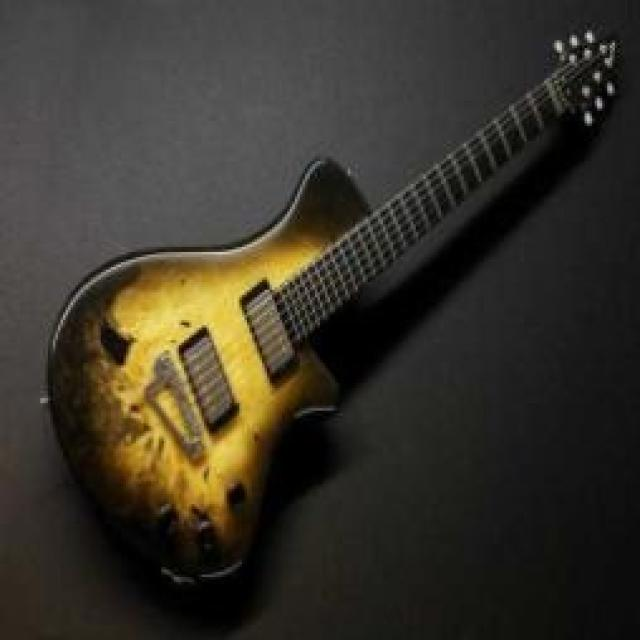bass: (53, 30, 617, 580)
